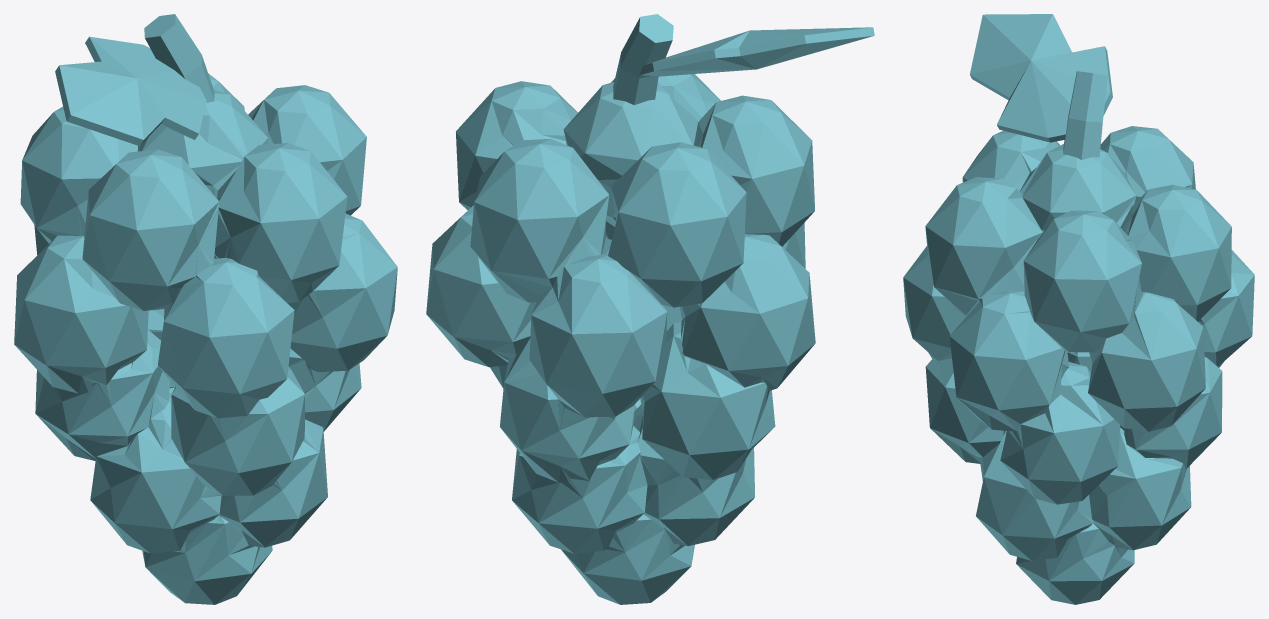
Rendered from Glass_Legendary_Fruit.glb.
3 views of the same model, side by side, from view 1: azimuth 30°, elevation 25°; view 2: azimuth 150°, elevation 25°; view 3: azimuth 270°, elevation 25° (orthographic). The views are drawn at different scales.
Parts seen in each view (by area): view 1: Glass_Grapes; view 2: Glass_Grapes; view 3: Glass_Grapes.
Boxes of the visible parts, bbox=[...] form: Glass_Grapes: bbox=[14, 14, 397, 604]; Glass_Grapes: bbox=[426, 14, 874, 604]; Glass_Grapes: bbox=[903, 14, 1254, 604].
Size of the model in its own units: 0.5036 by 0.81 by 0.4982.
